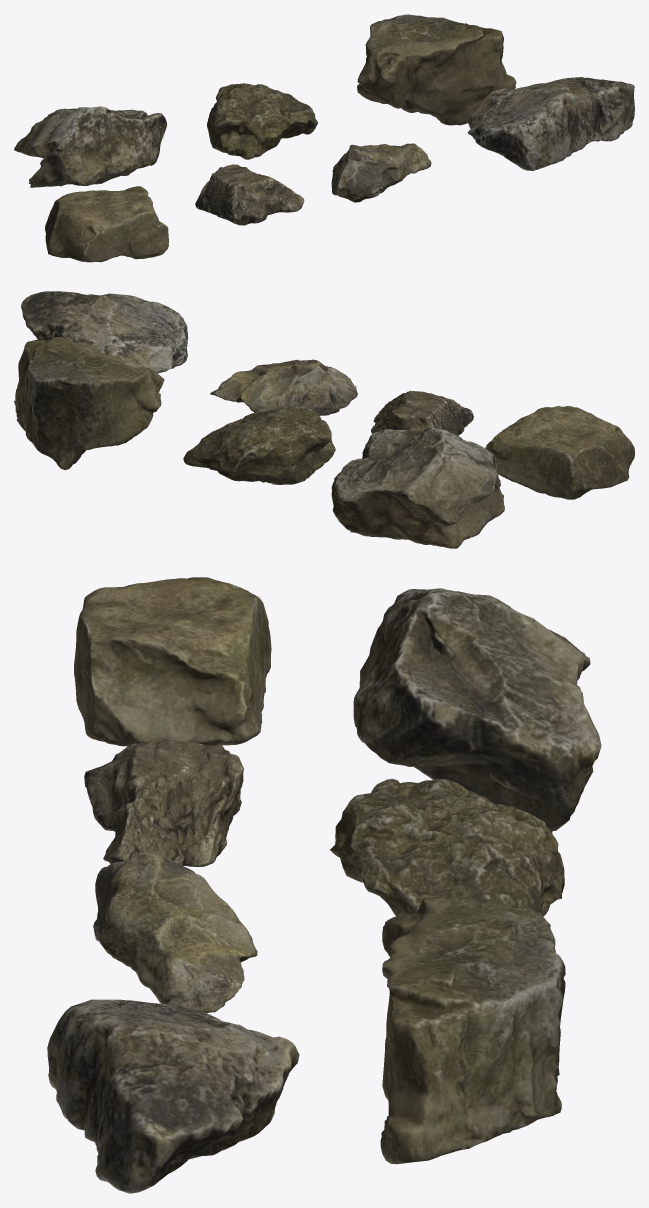
The model's file is rock_moss_set_02.glb.
3 renders of one model, top to bottom at view 1: azimuth 30°, elevation 25°; view 2: azimuth 150°, elevation 25°; view 3: azimuth 270°, elevation 25°, orthographic. The views are drawn at different scales.
Parts seen in each view (by area): view 1: rock_moss_set_02_rock13_mesh, rock_moss_set_02_rock10_mesh, rock_moss_set_02_rock11_mesh, rock_moss_set_02_rock07_mesh, rock_moss_set_02_rock12_mesh, rock_moss_set_02_rock08_mesh, rock_moss_set_02_rock09_mesh; view 2: rock_moss_set_02_rock11_mesh, rock_moss_set_02_rock13_mesh, rock_moss_set_02_rock07_mesh, rock_moss_set_02_rock10_mesh, rock_moss_set_02_rock12_mesh, rock_moss_set_02_rock09_mesh, rock_moss_set_02_rock08_mesh; view 3: rock_moss_set_02_rock13_mesh, rock_moss_set_02_rock11_mesh, rock_moss_set_02_rock10_mesh, rock_moss_set_02_rock07_mesh, rock_moss_set_02_rock12_mesh, rock_moss_set_02_rock09_mesh, rock_moss_set_02_rock08_mesh.
Part boxes in pixels (x1,y1,x2,y2): rock_moss_set_02_rock13_mesh: (357, 14, 516, 125); rock_moss_set_02_rock10_mesh: (467, 77, 634, 170); rock_moss_set_02_rock11_mesh: (14, 106, 166, 187); rock_moss_set_02_rock07_mesh: (45, 186, 168, 262); rock_moss_set_02_rock12_mesh: (207, 83, 317, 159); rock_moss_set_02_rock08_mesh: (195, 164, 304, 225); rock_moss_set_02_rock09_mesh: (331, 143, 431, 202); rock_moss_set_02_rock11_mesh: (331, 427, 504, 548); rock_moss_set_02_rock13_mesh: (14, 337, 164, 470); rock_moss_set_02_rock07_mesh: (485, 406, 634, 499); rock_moss_set_02_rock10_mesh: (21, 291, 188, 373); rock_moss_set_02_rock12_mesh: (183, 406, 335, 484); rock_moss_set_02_rock09_mesh: (210, 359, 357, 415); rock_moss_set_02_rock08_mesh: (371, 390, 473, 435); rock_moss_set_02_rock13_mesh: (380, 895, 565, 1164); rock_moss_set_02_rock11_mesh: (353, 588, 601, 833); rock_moss_set_02_rock10_mesh: (47, 999, 299, 1193); rock_moss_set_02_rock07_mesh: (74, 577, 271, 746); rock_moss_set_02_rock12_mesh: (330, 778, 564, 927); rock_moss_set_02_rock09_mesh: (93, 851, 257, 1012); rock_moss_set_02_rock08_mesh: (84, 741, 243, 866).
Bounding box in the file's own units: 8.28 × 1.37 × 3.41.
Materials: 1 (1 with a texture image).
